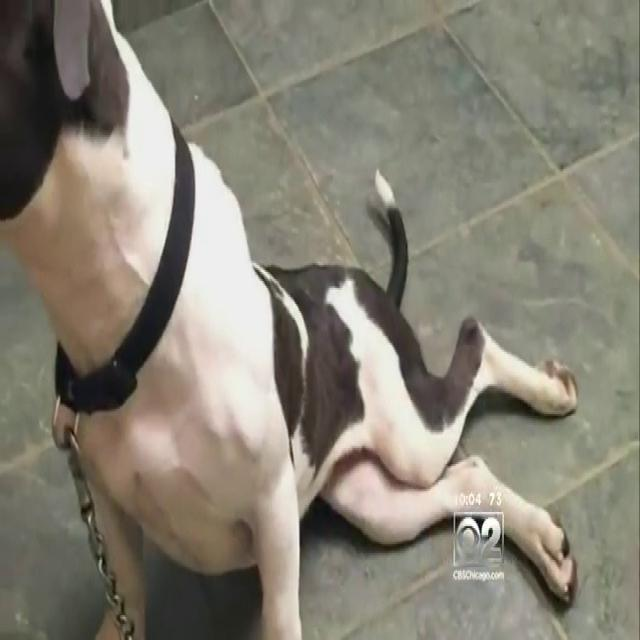normal_animals: (2, 3, 585, 633)
